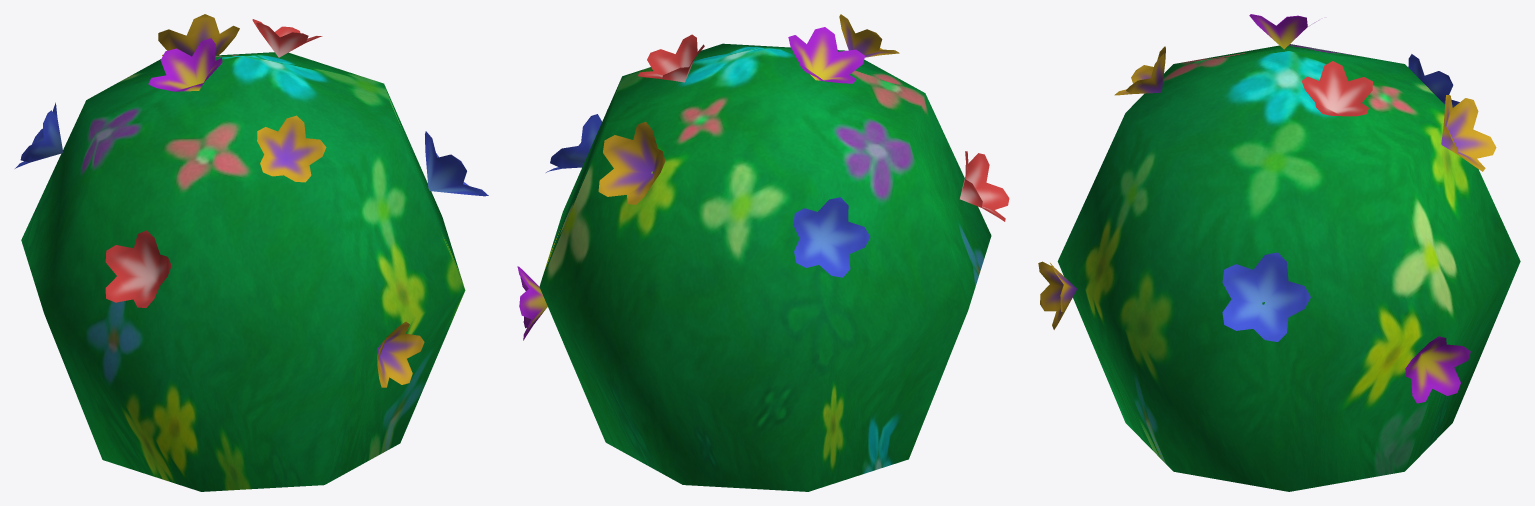
File: Plant03_b01.FBX
The picture shows the model from 3 angles, left to right: view 1: azimuth 30°, elevation 25°; view 2: azimuth 150°, elevation 25°; view 3: azimuth 270°, elevation 25°; orthographic projection.
Parts seen in each view (by area): view 1: Plant03_b01; view 2: Plant03_b01; view 3: Plant03_b01.
Boxes of the visible parts, <box> form: Plant03_b01: <box>15,14,488,491</box>; Plant03_b01: <box>517,14,1009,491</box>; Plant03_b01: <box>1038,14,1520,491</box>.
Bounding box in the file's own units: 186 × 165 × 183.
Materials: 2 (2 with a texture image).
